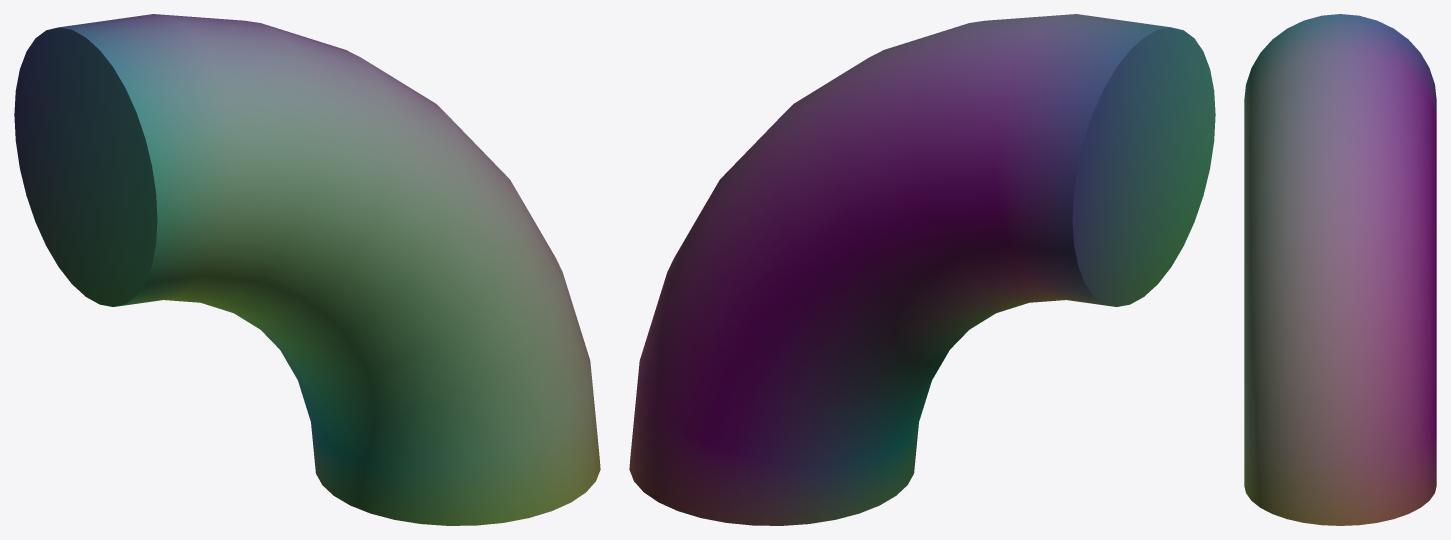
Rendered from SM_ScalableCylinder90R1.gltf.
3 renders of one model, left to right at view 1: azimuth 30°, elevation 25°; view 2: azimuth 150°, elevation 25°; view 3: azimuth 270°, elevation 25°, orthographic. The views are drawn at different scales.
Parts seen in each view (by area): view 1: SM_ScalableCylinder90R1; view 2: SM_ScalableCylinder90R1; view 3: SM_ScalableCylinder90R1.
Boxes of the visible parts, x1,y1,x2,y2 form: SM_ScalableCylinder90R1: (14, 14, 600, 525); SM_ScalableCylinder90R1: (629, 14, 1215, 525); SM_ScalableCylinder90R1: (1244, 14, 1436, 525).
Size of the model in its own units: 0.6 by 0.6 by 0.3.
